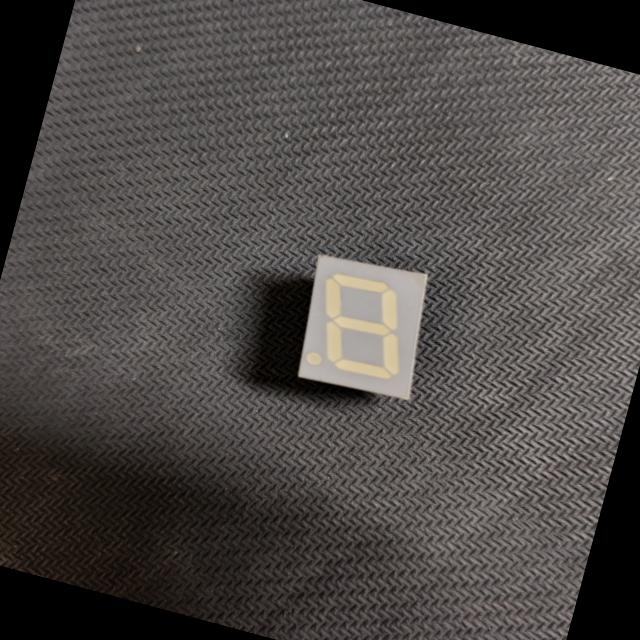sevensegment: (274, 225, 456, 420)
